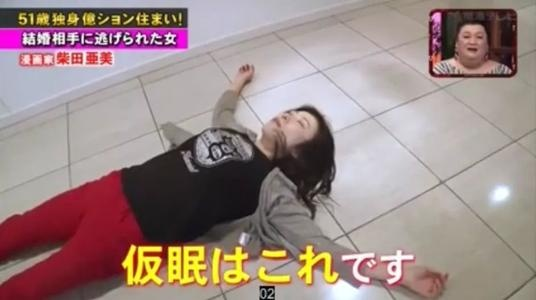falling: (9, 47, 345, 289)
